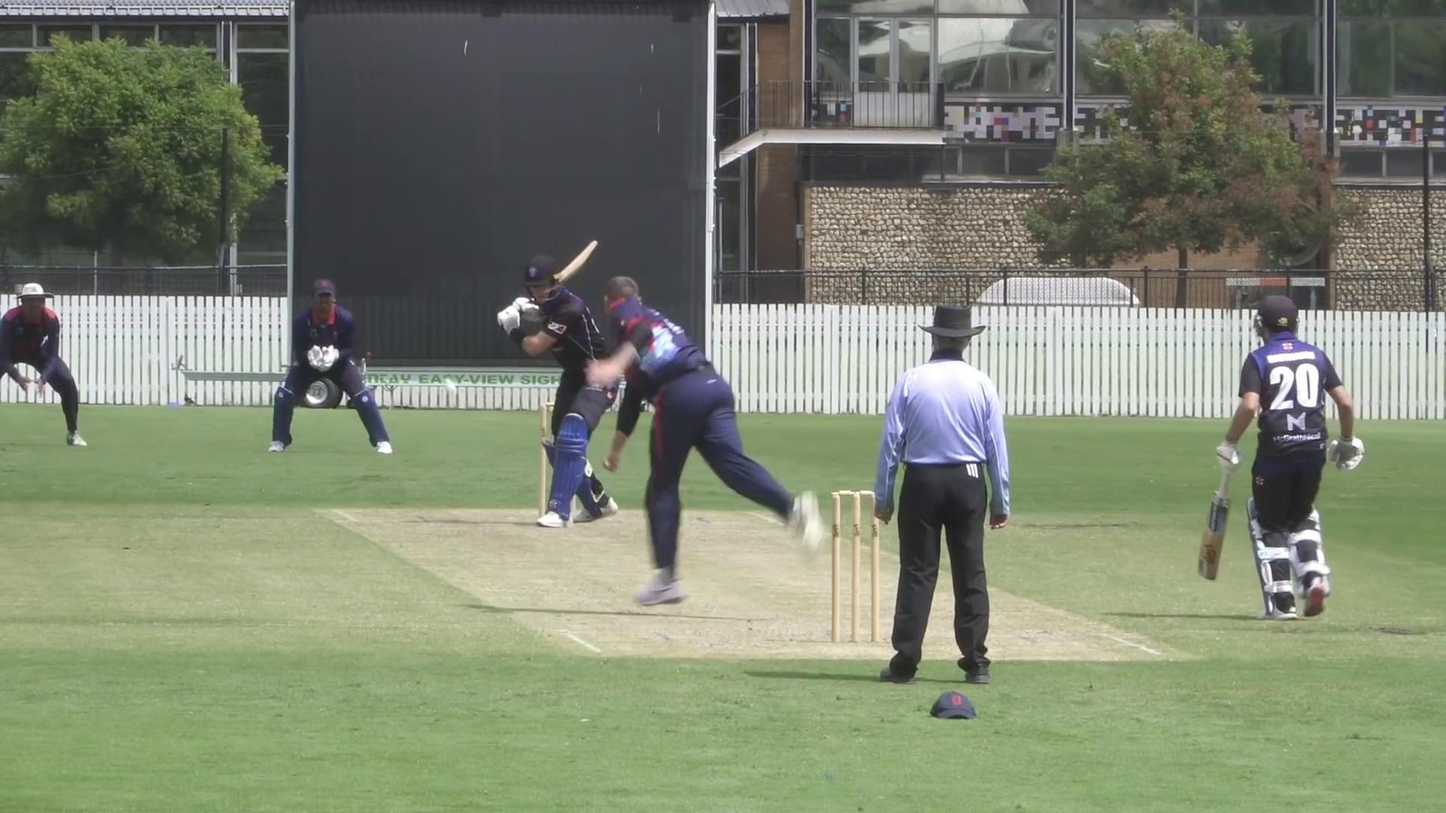ball: (440, 376, 460, 399)
